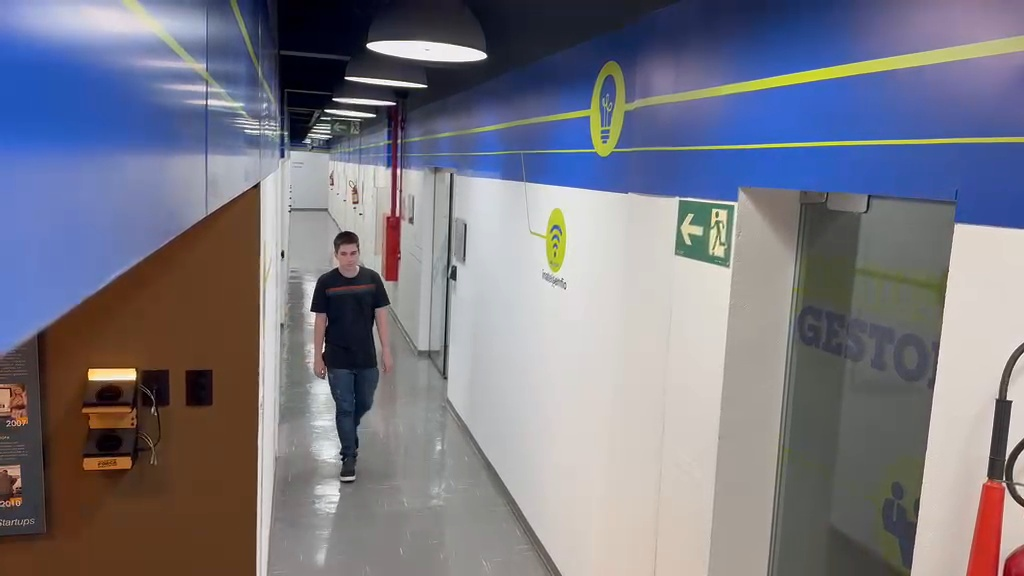person: (309, 229, 394, 478)
